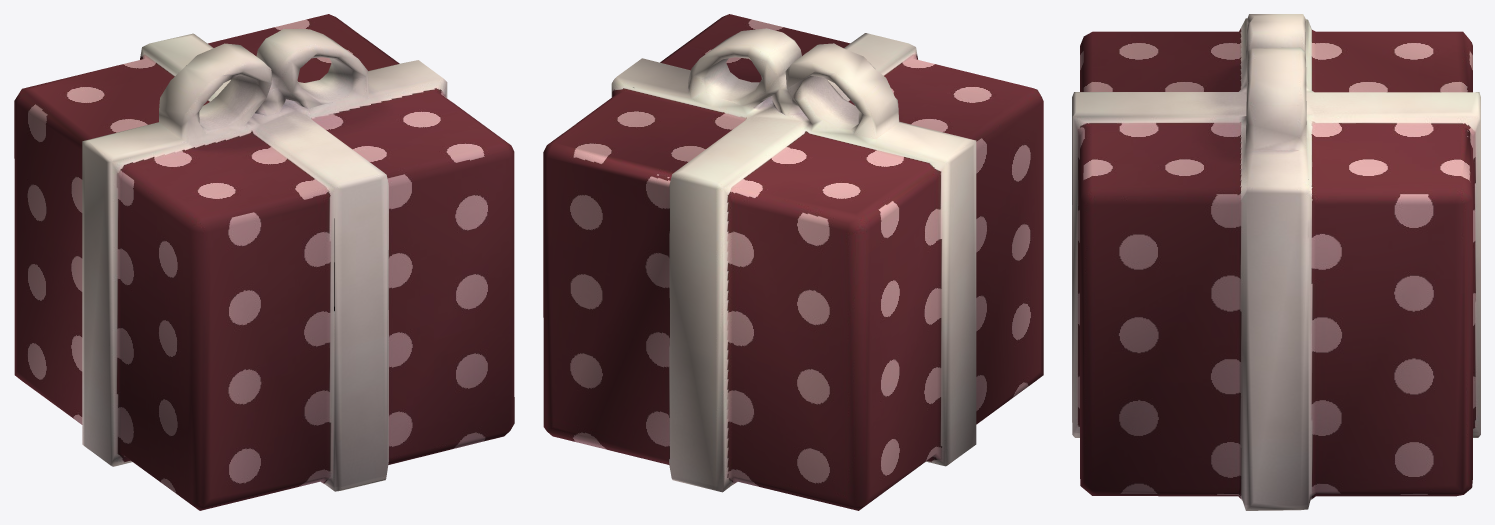
File: gift_small.glb
3 views of the same model, side by side, from view 1: azimuth 30°, elevation 25°; view 2: azimuth 150°, elevation 25°; view 3: azimuth 270°, elevation 25° (orthographic). The views are drawn at different scales.
Parts seen in each view (by area): view 1: Box; view 2: Box; view 3: Box.
Boxes of the visible parts, <box> form: Box: <box>14,14,514,510</box>; Box: <box>543,14,1043,510</box>; Box: <box>1072,14,1480,510</box>.
Size of the model in its own units: 0.312 by 0.328 by 0.312.
1 material, 1 textured.
